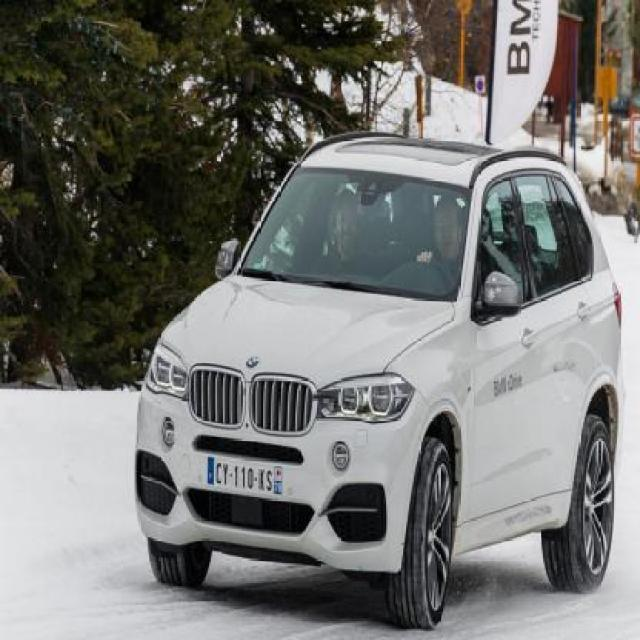License-Plates: (200, 458, 282, 497)
